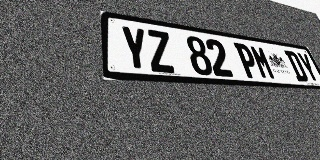2: (204, 38, 233, 77)
8: (184, 35, 214, 76)
D: (284, 50, 310, 82)
M: (249, 45, 276, 80)
P: (233, 42, 261, 79)
Y: (120, 25, 151, 72), (296, 52, 320, 83)
Z: (145, 29, 176, 73)
